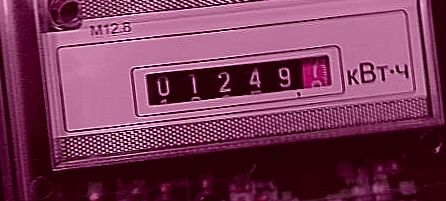0: (153, 69, 172, 95)
1: (185, 68, 200, 93)
2: (215, 66, 235, 92)
4: (247, 61, 265, 88)
7: (307, 53, 322, 77)
9: (276, 61, 294, 86)
screen: (125, 43, 359, 121)
